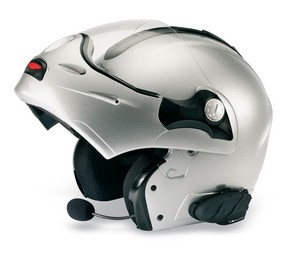helmet: (9, 33, 283, 229)
